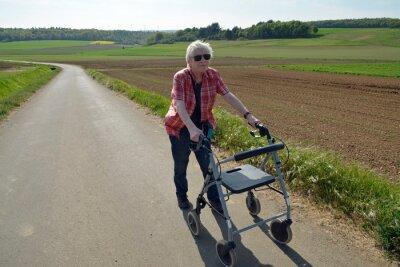walking_frame: (165, 40, 293, 267)
